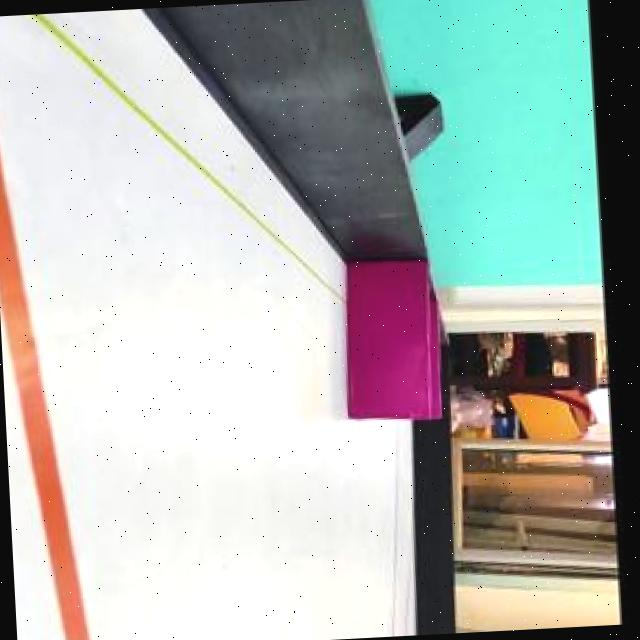xparking: (346, 264, 426, 419)
